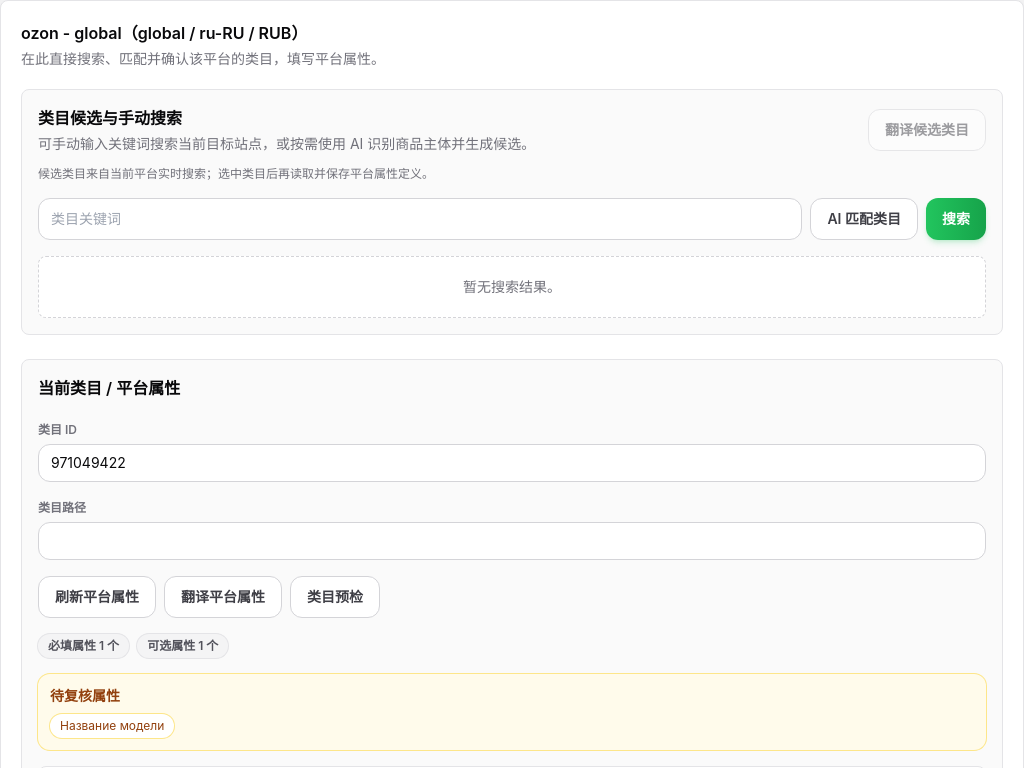
Test: CategoryAttributesPanel › 点击待复核属性时展开对应分组并定位平台定义中的输入框
Click the button "Название модели": (112, 726) [50,714,174,738]
(page scrolled)
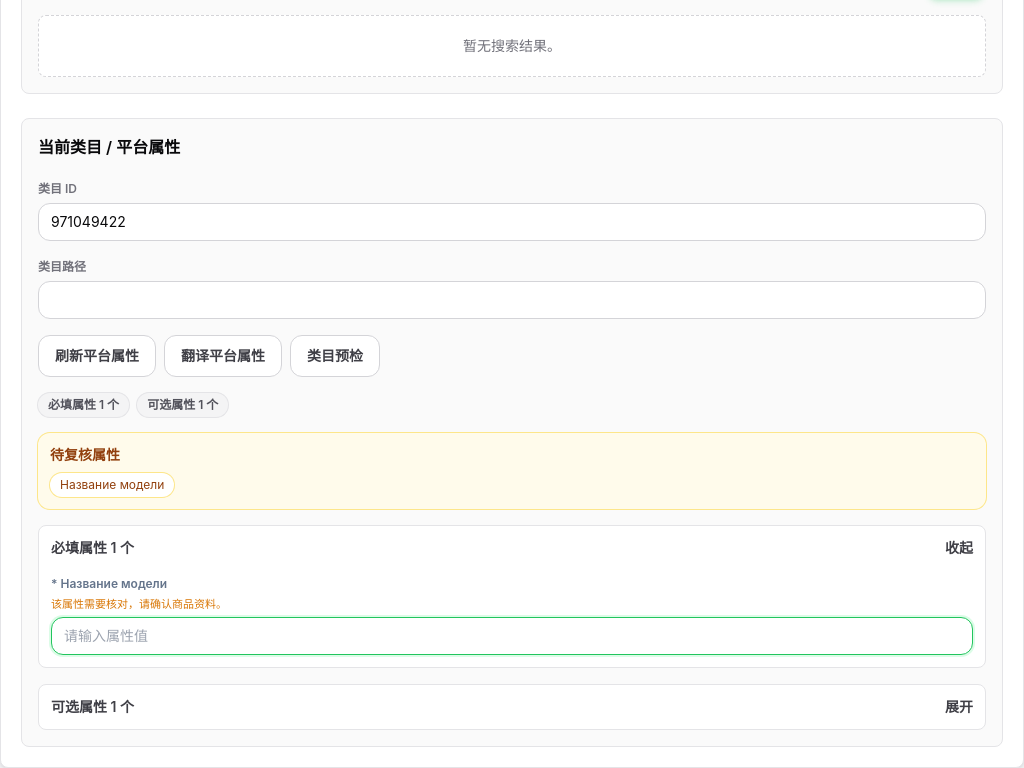
Now the element with test id "required-attribute-fields" is shown, box [51,570,973,654]
